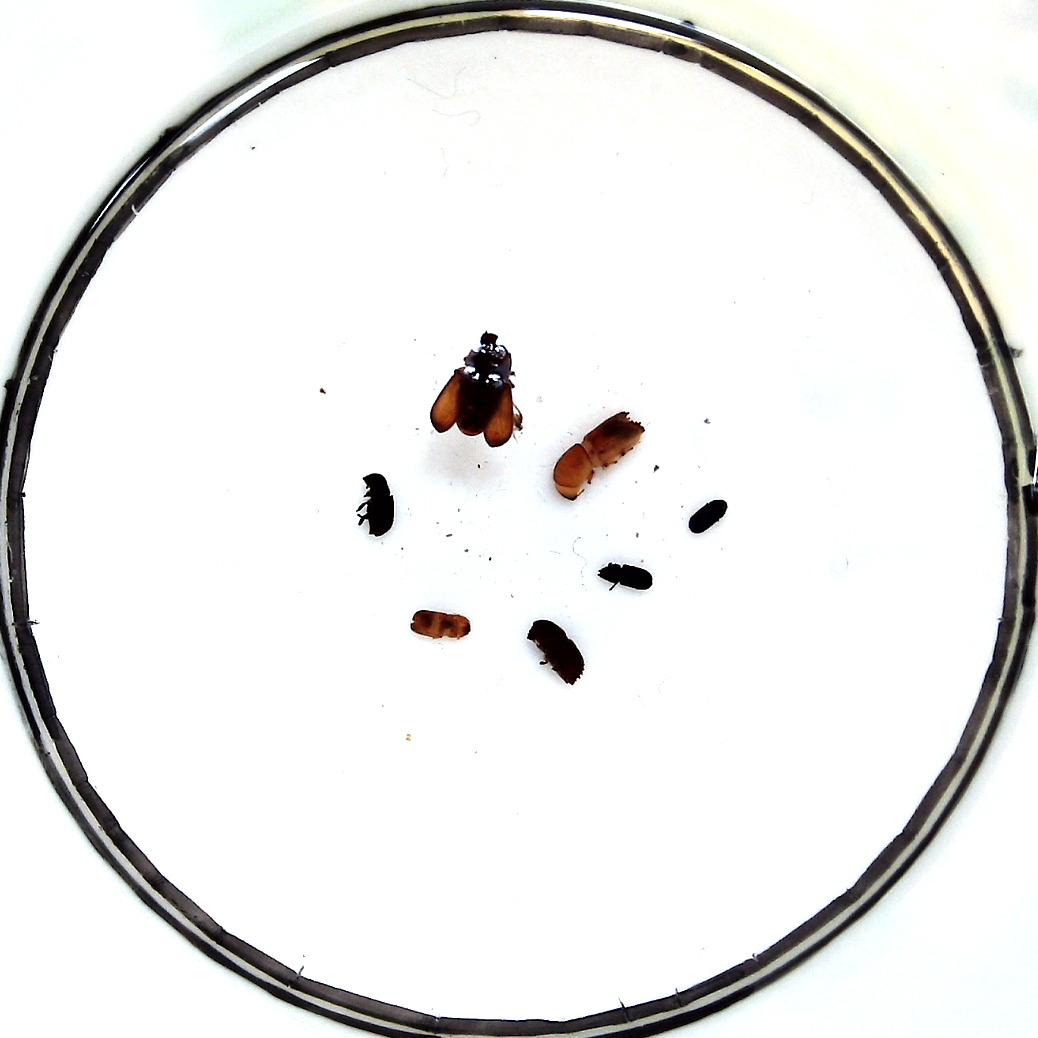Boerner: (554, 414, 641, 503)
Leconte: (430, 335, 524, 447)
Linnaeus: (529, 622, 584, 688)
acuminatus: (409, 606, 472, 640)
armandi: (359, 471, 397, 540)
coleoptera: (599, 559, 648, 594), (688, 500, 729, 532)
